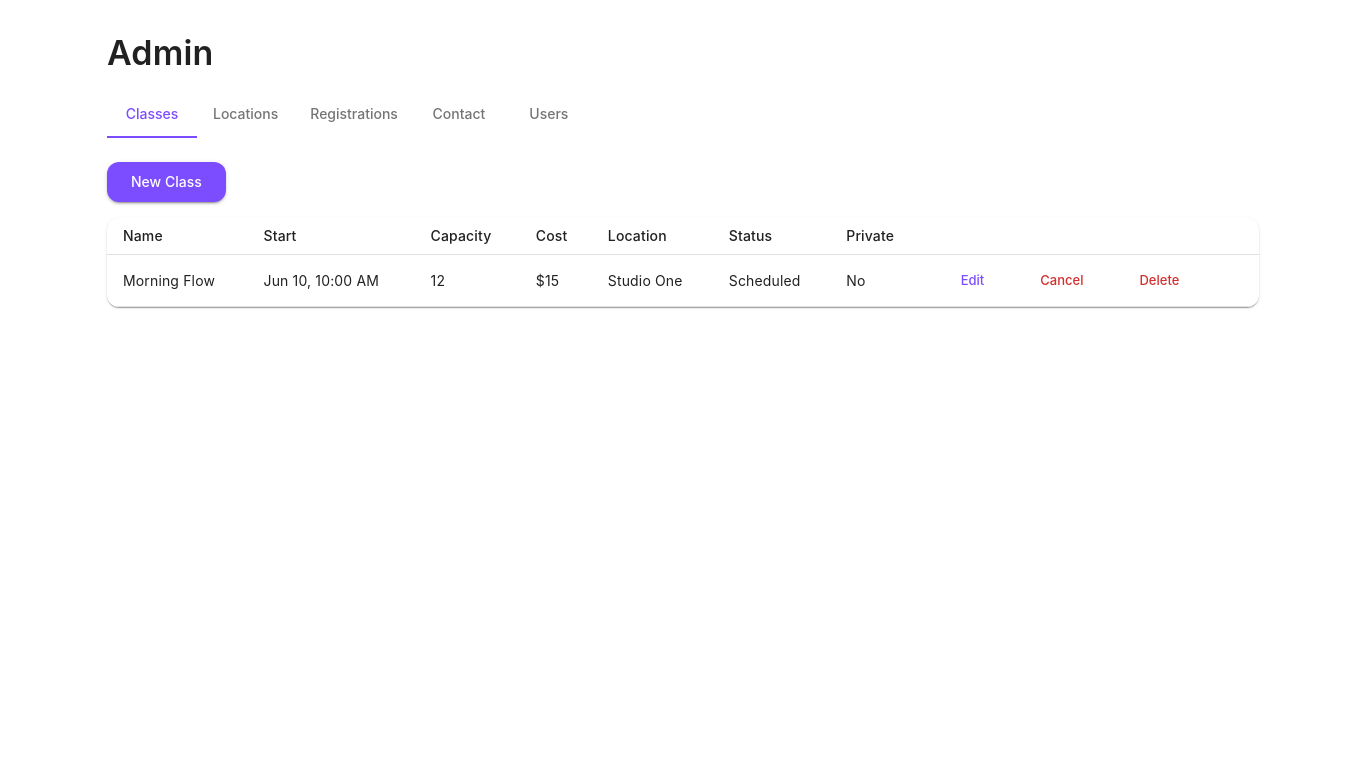
Test: AdminDashboard › validates a new class before sending it
Click the button "New Class" at (166, 182), box [107, 162, 226, 202]
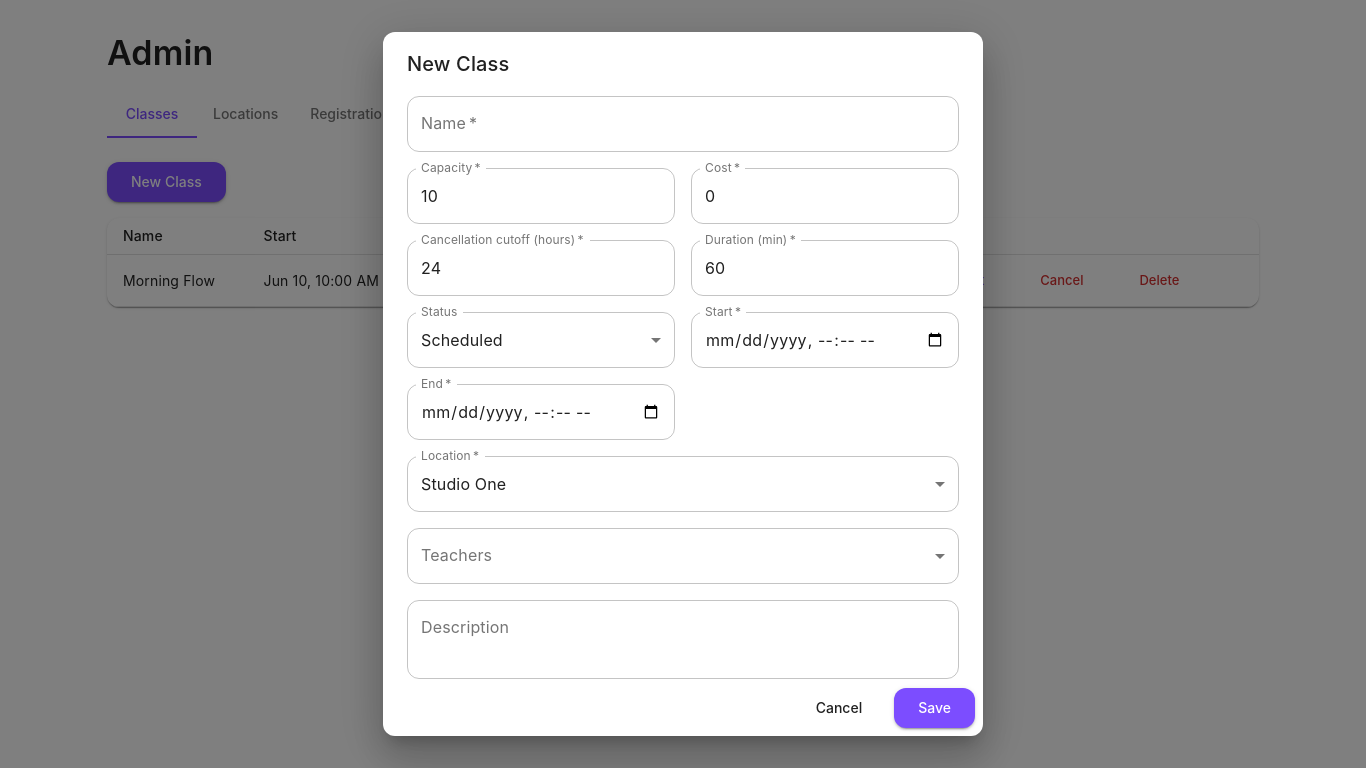
Click the button "Save" at (935, 708), box [894, 688, 975, 728]
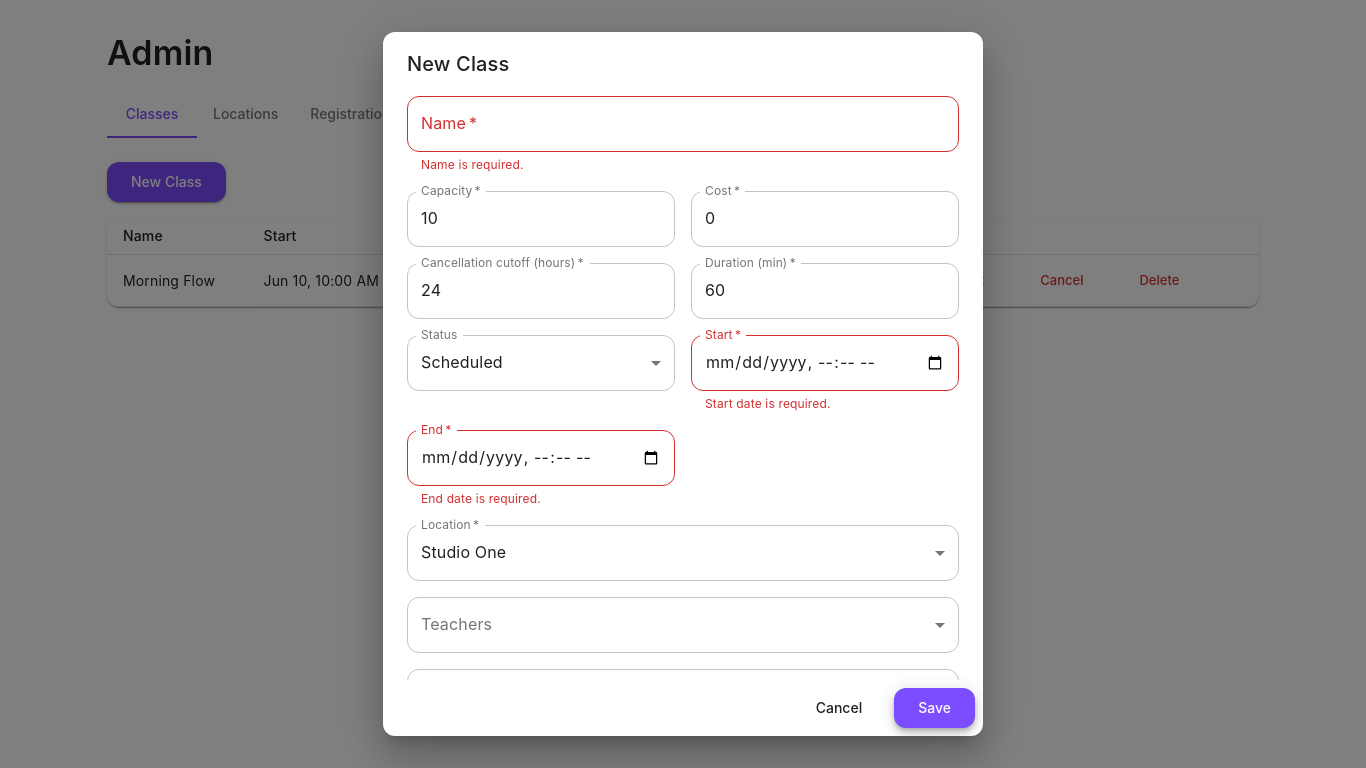
Check: the text "Name is required." is shown, box [421, 157, 524, 172]
Check: the text "Start date is required." is shown, box [705, 396, 830, 411]
Check: the text "End date is required." is shown, box [421, 491, 541, 506]
